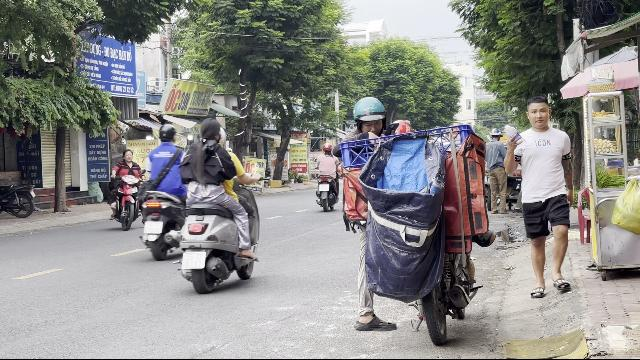helmet: (157, 123, 176, 143)
licenseplate: (182, 252, 206, 270), (144, 222, 162, 234)
motorcyclist: (177, 115, 261, 293), (138, 122, 190, 260), (106, 147, 142, 229)
nohelmet: (198, 116, 224, 144), (121, 148, 132, 162)
